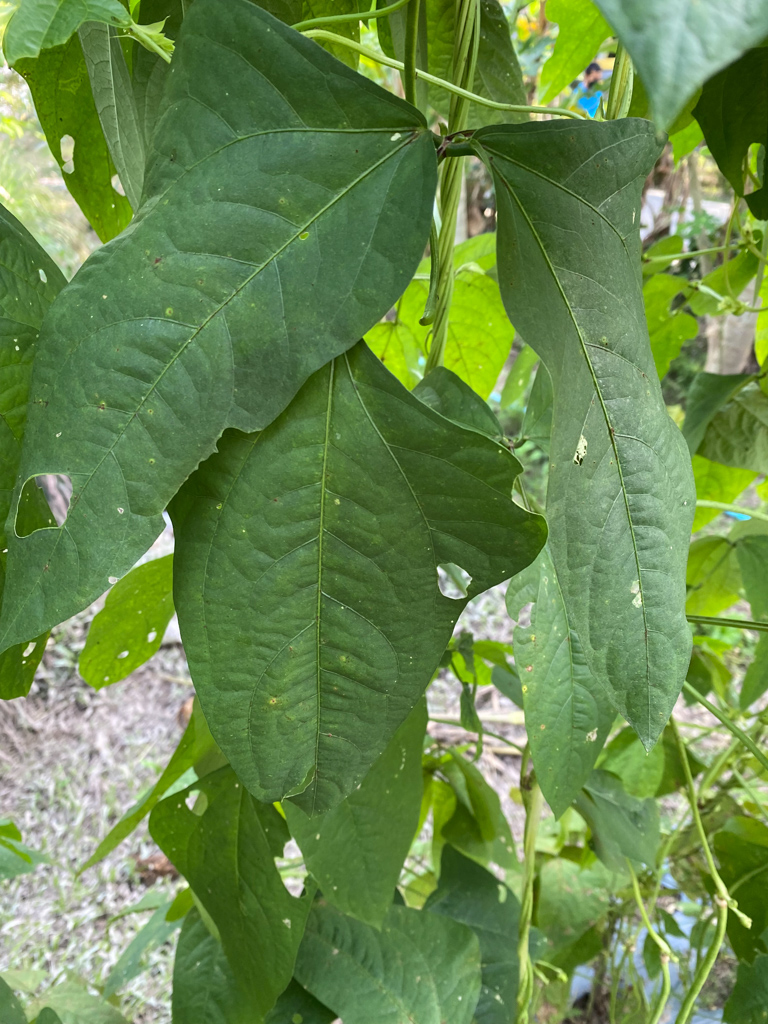Alternaria brassicicola: (523, 631, 545, 673), (90, 393, 115, 419), (139, 398, 159, 429), (291, 224, 318, 246), (207, 496, 230, 517), (145, 447, 162, 472), (160, 301, 177, 322), (265, 692, 282, 713), (537, 718, 549, 739), (521, 683, 529, 696)
